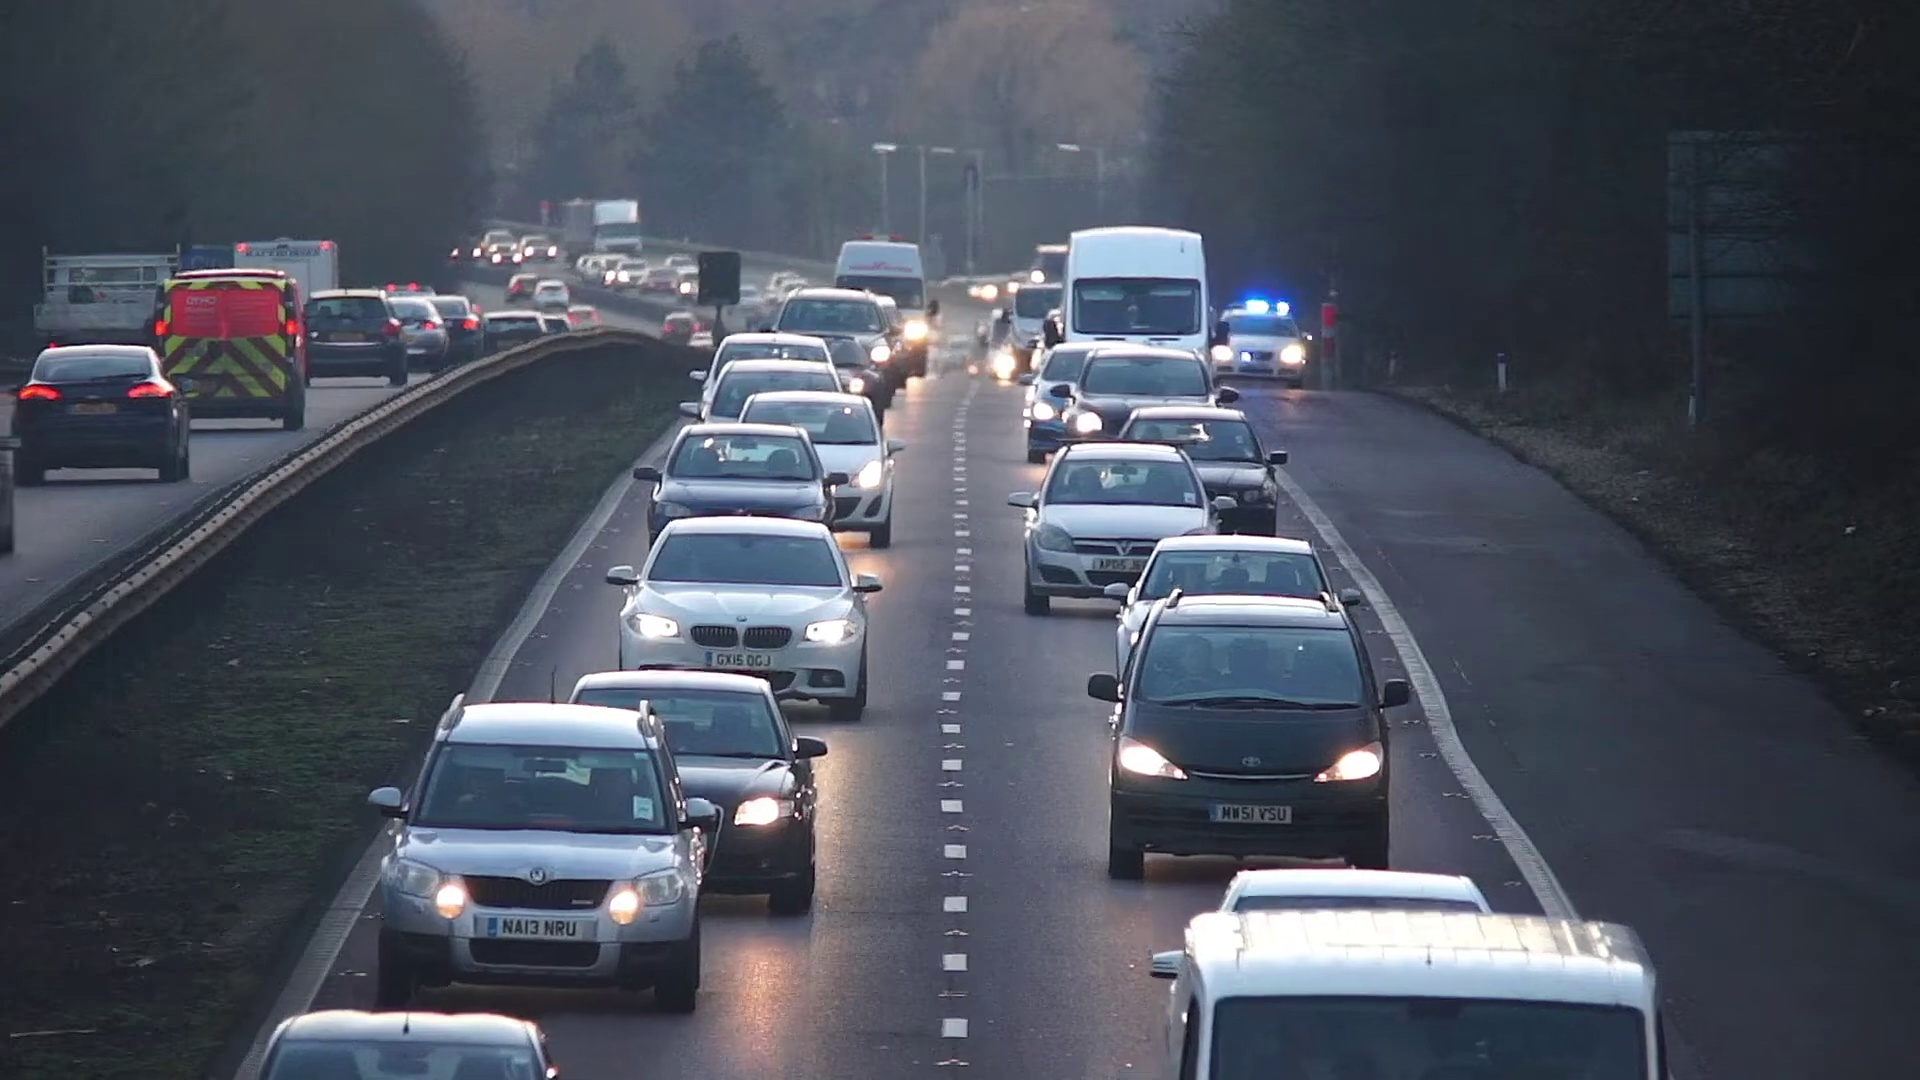license_plate: (490, 916, 581, 940), (1212, 801, 1291, 825), (707, 651, 772, 670), (1096, 557, 1146, 573)
